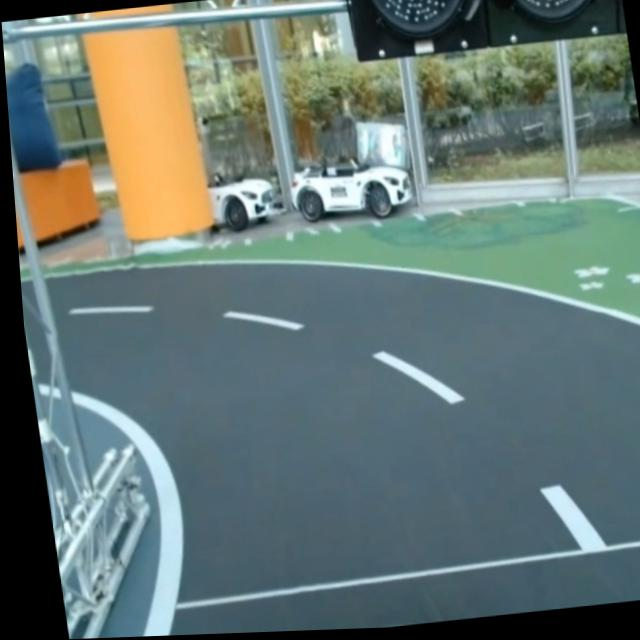traffic-light: (341, 0, 628, 66)
